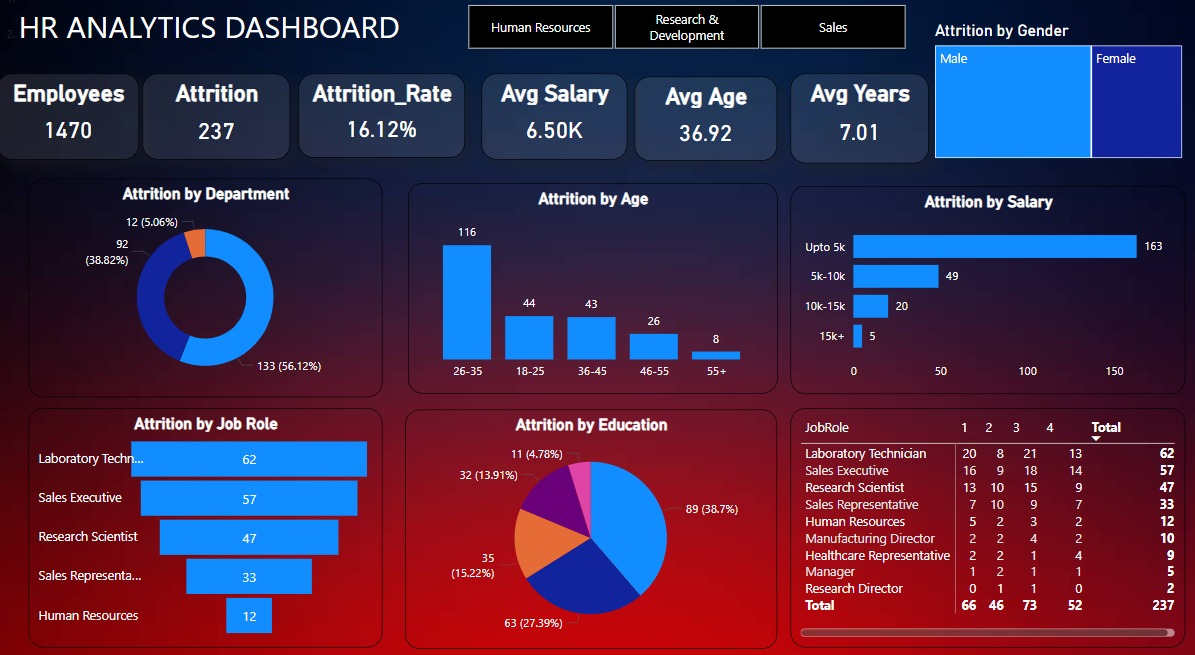

What the dashboard file says about the page in this screenshot:
{"tool":"powerbi","page":{"name":"Page 1","canvas":[1280,720],"ordinal":0},"visuals":[{"type":"card","title":"Employees","fields":{"Values":["Sum(HR_Analytics.EmployeeCount)"]},"box":[0,93.3,150.9,91.3],"z":0},{"type":"card","title":"Avg Salary","fields":{"Values":["Avg(HR_Analytics.MonthlyIncome)"]},"box":[514.3,93.3,154.9,91.3],"z":1000},{"type":"card","title":"Attrition","fields":{"Values":["Sum(HR_Analytics.Attrition_count)"]},"box":[154.9,93.3,156.9,91.3],"z":2000},{"type":"card","title":"Attrition_Rate","fields":{"Values":["HR_Analytics.Attrition_Rate"]},"box":[319.7,93.8,176.6,89.1],"z":3000},{"type":"card","title":"Avg Age","fields":{"Values":["Avg(HR_Analytics.Age)"]},"box":[676,97,151.1,89.1],"z":4000},{"type":"card","title":"Avg Years","fields":{"Values":["Avg(HR_Analytics.YearsAtCompany)"]},"box":[841.9,93.3,146.9,95.3],"z":5000},{"type":"donutChart","title":"Attrition by Department","fields":{"Y":["Sum(HR_Analytics.Attrition_count)"],"Category":["HR_Analytics.Department"]},"box":[33.8,204.5,375.3,232.3],"z":6000},{"type":"clusteredColumnChart","title":"Attrition by Age","fields":{"Y":["Sum(HR_Analytics.Attrition_count)"],"Category":["HR_Analytics.AgeGroup"]},"box":[435.9,209.7,391.7,223.4],"z":7000},{"type":"clusteredBarChart","title":"Attrition  by Salary","fields":{"Category":["HR_Analytics.SalarySlab"],"Y":["Sum(HR_Analytics.Attrition_count)"]},"box":[841.9,212.5,419,220.4],"z":8000},{"type":"funnel","title":"Attrition  by Job Role","fields":{"Y":["Sum(HR_Analytics.Attrition_count)"],"Category":["HR_Analytics.JobRole"]},"box":[33.8,448.7,375.3,254.2],"z":9000},{"type":"pieChart","title":"Attrition by Education","fields":{"Y":["Sum(HR_Analytics.Attrition_count)"],"Category":["HR_Analytics.EducationField"]},"box":[433.1,449.7,394.5,253.8],"z":10000},{"type":"pivotTable","fields":{"Rows":["HR_Analytics.JobRole"],"Values":["Sum(HR_Analytics.Attrition_count)"],"Columns":["HR_Analytics.JobSatisfaction"]},"box":[841.9,448.7,419,254.2],"z":11000},{"type":"treemap","title":"Attrition by Gender","fields":{"Group":["HR_Analytics.Gender"],"Values":["Sum(HR_Analytics.Attrition_count)"]},"box":[989,38,272,150],"z":12000},{"type":"slicer","fields":{"Values":["HR_Analytics.Department"]},"box":[474.5,0,513.1,74.5],"z":13000},{"type":"textbox","box":[0,0,474.5,74.5],"z":14000}]}

Visuals, with their boxes in screenshot pixels (x1, y1, x2, y2), scaled from the page's 1280x720 canvas onto the 1195x655 screenshot:
"Employees" card: detection(0, 85, 141, 168)
"Avg Salary" card: detection(480, 85, 625, 168)
"Attrition" card: detection(145, 85, 291, 168)
"Attrition_Rate" card: detection(298, 85, 463, 166)
"Avg Age" card: detection(631, 88, 772, 169)
"Avg Years" card: detection(786, 85, 923, 172)
"Attrition by Department" donutChart: detection(32, 186, 382, 397)
"Attrition by Age" clusteredColumnChart: detection(407, 191, 773, 394)
"Attrition  by Salary" clusteredBarChart: detection(786, 193, 1177, 394)
"Attrition  by Job Role" funnel: detection(32, 408, 382, 639)
"Attrition by Education" pieChart: detection(404, 409, 773, 640)
pivotTable - HR_Analytics.JobRole x Sum(HR_Analytics.Attrition_count): detection(786, 408, 1177, 639)
"Attrition by Gender" treemap: detection(923, 35, 1177, 171)
slicer - HR_Analytics.Department: detection(443, 0, 922, 68)
textbox: detection(0, 0, 443, 68)
